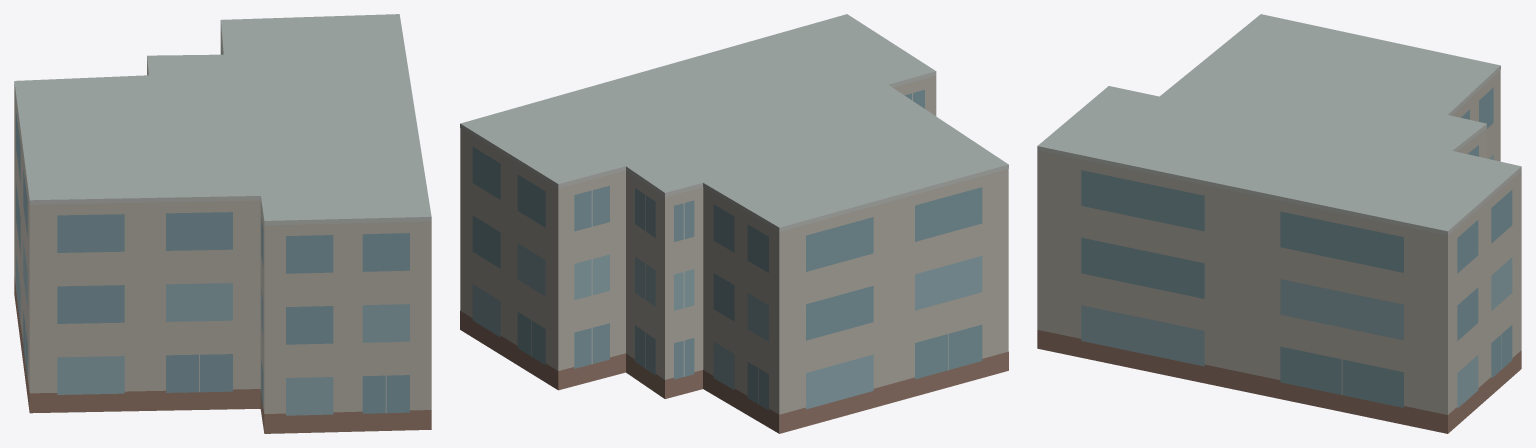
File: survey-upis-32473618.glb
The picture shows the model from 3 angles, left to right: view 1: azimuth 30°, elevation 25°; view 2: azimuth 150°, elevation 25°; view 3: azimuth 270°, elevation 25°; orthographic projection. The views are drawn at different scales.
Visible parts, largest first — view 1: survey-upis-32473618.tmp; view 2: survey-upis-32473618.tmp; view 3: survey-upis-32473618.tmp.
Boxes of the visible parts, x1,y1,x2,y2 form: survey-upis-32473618.tmp: (14,14,431,433); survey-upis-32473618.tmp: (460,14,1008,433); survey-upis-32473618.tmp: (1037,14,1521,433).
Bounding box in the file's own units: 26.82 × 11.65 × 25.25.
